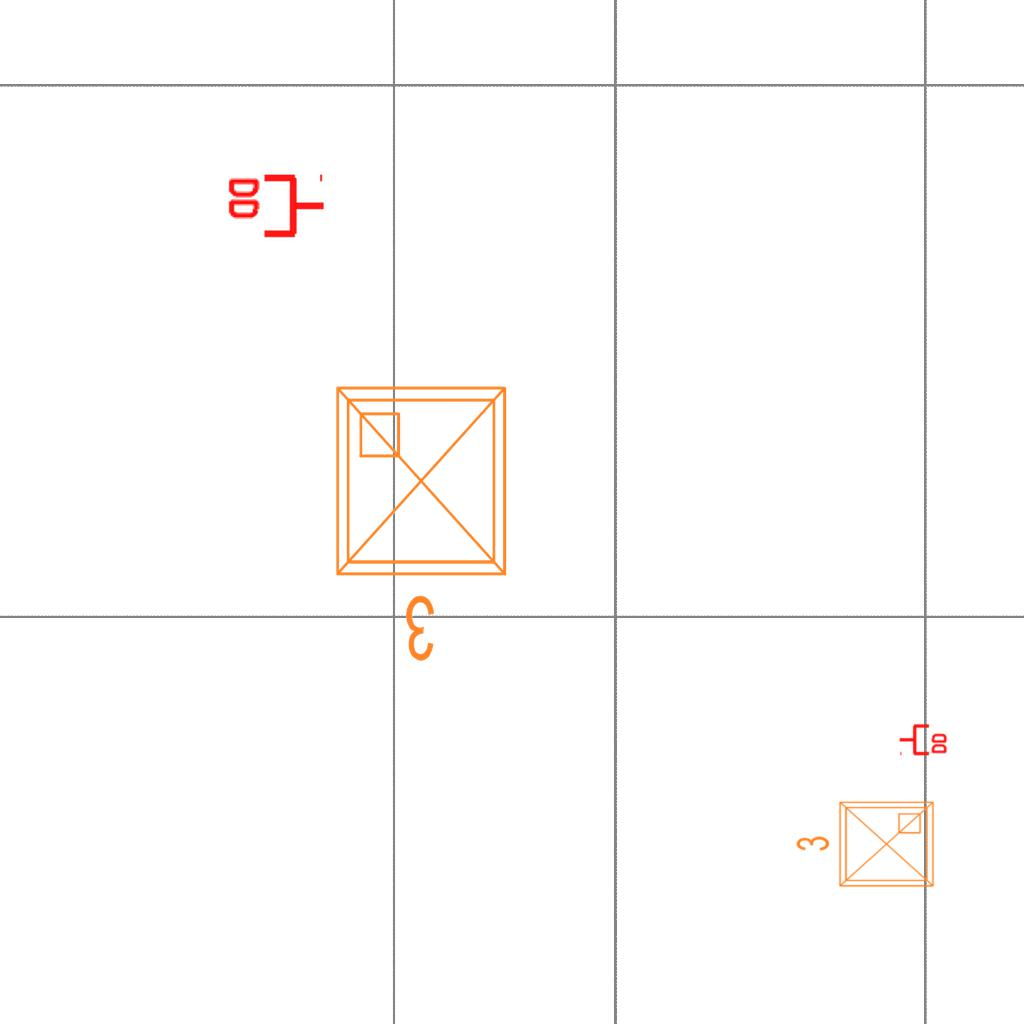Datenanschluss_zweifach: (224, 173, 327, 242), (898, 722, 949, 756)
Einbaudownlights_LED_Konferenzraeume: (321, 372, 529, 672), (791, 794, 941, 898)
